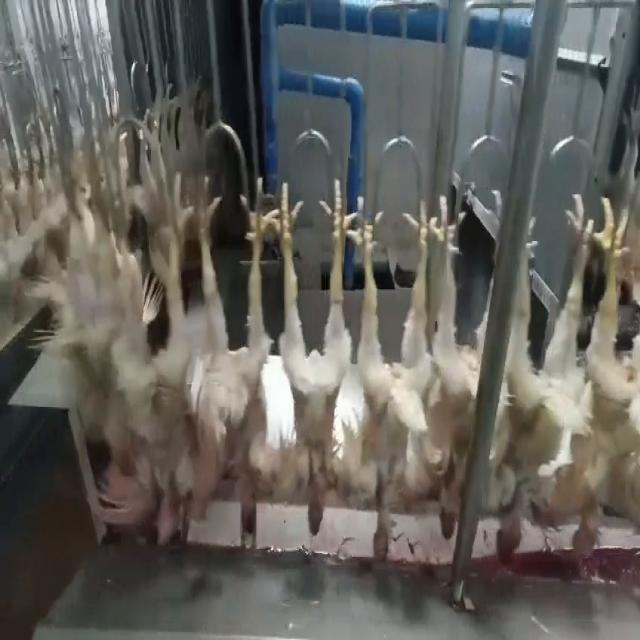chicken: (488, 198, 594, 561), (179, 166, 270, 528), (267, 174, 354, 543), (348, 203, 432, 564), (111, 171, 181, 545), (582, 193, 640, 565), (423, 189, 471, 549)
